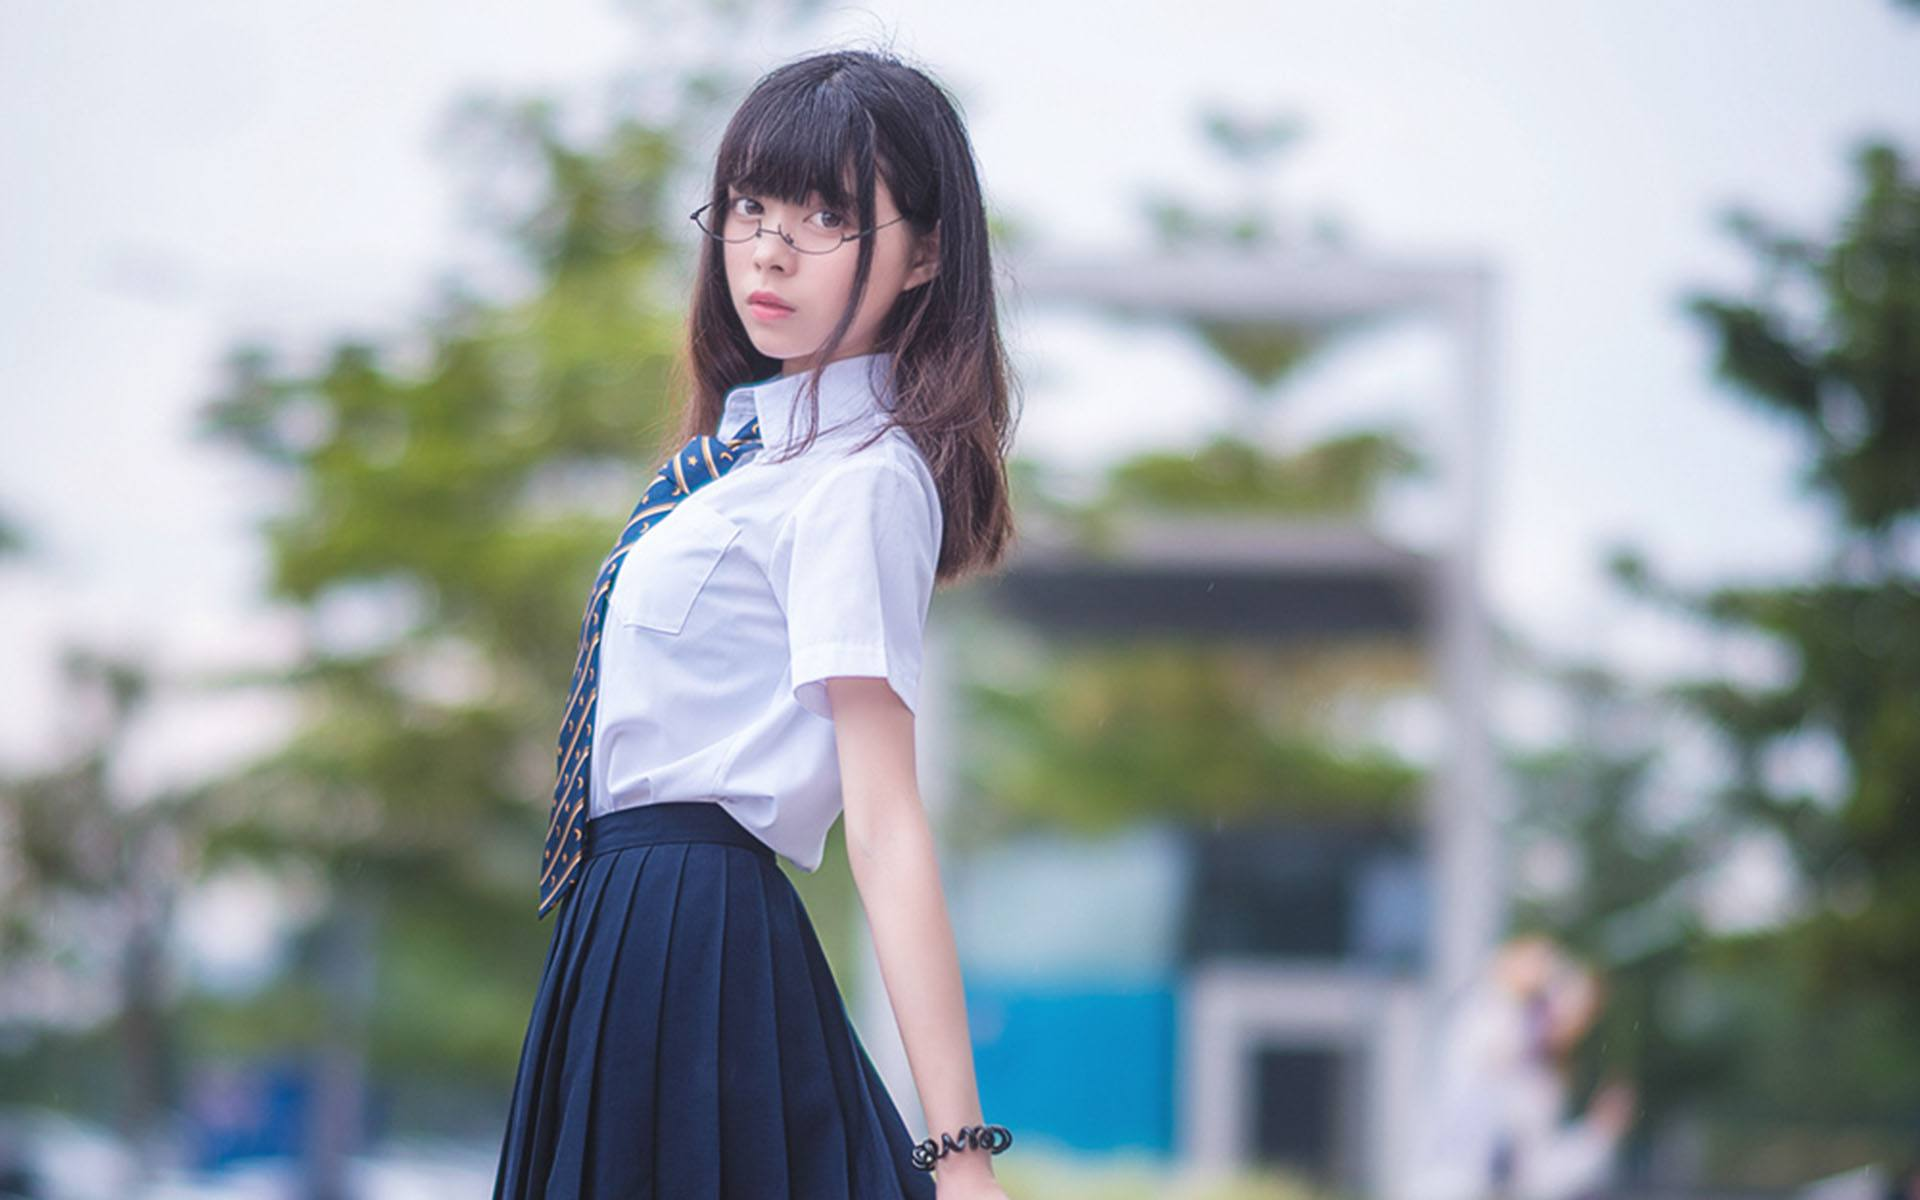person: (533, 58, 1095, 1073)
